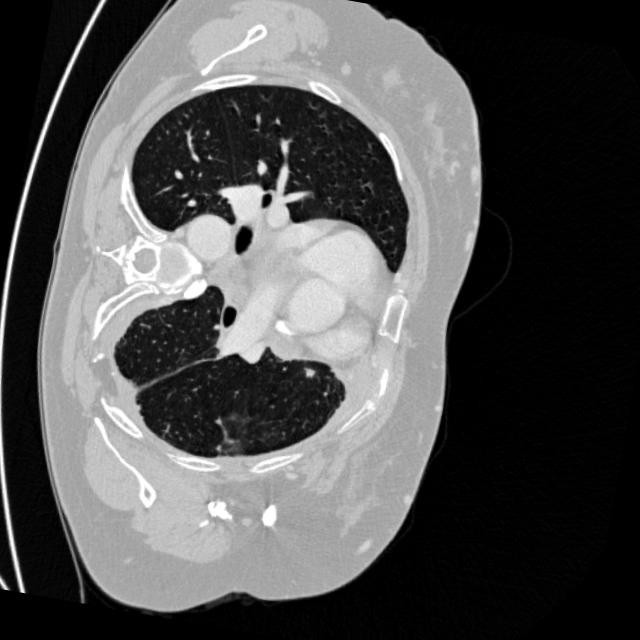nodule: (297, 362, 322, 386)
